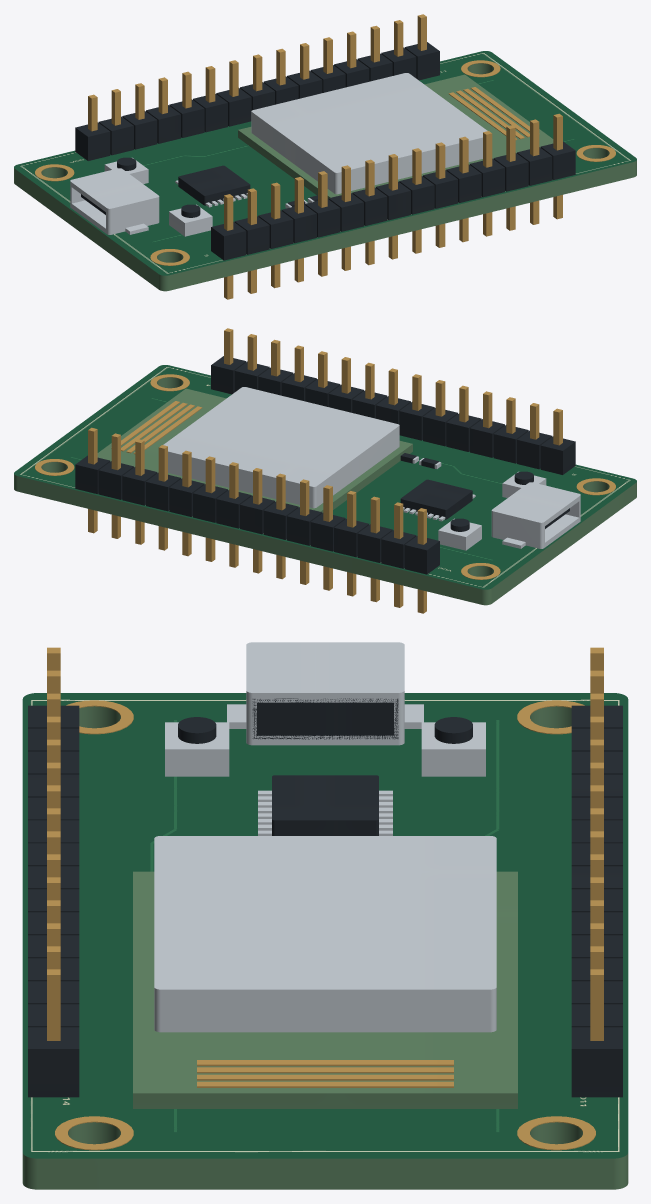
The model's file is esp32-devkit-board.glb.
3 renders of one model, top to bottom at view 1: azimuth 30°, elevation 25°; view 2: azimuth 150°, elevation 25°; view 3: azimuth 270°, elevation 25°, orthographic. The views are drawn at different scales.
Parts seen in each view (by area): view 1: PCB, RF_shield, USB_metal_shell, RF_module_substrate, USB_bridge, GPIO_insulator_15, GPIO_insulator_0, Button_base_-6, GPIO_insulator_13, GPIO_insulator_2, GPIO_insulator_6, GPIO_insulator_19 (+39 smaller); view 2: PCB, RF_shield, USB_metal_shell, RF_module_substrate, USB_bridge, GPIO_insulator_0, GPIO_insulator_15, Button_base_6, GPIO_insulator_28, GPIO_insulator_17, GPIO_insulator_21, GPIO_insulator_4 (+39 smaller); view 3: PCB, RF_shield, RF_module_substrate, USB_metal_shell, USB_bridge, USB_rear_insulating_web, GPIO_insulator_14, GPIO_insulator_29, Button_base_6, Button_base_-6, Antenna_trace_0, Antenna_trace_1 (+38 smaller).
Part boxes in pixels (x1=…): PCB: x1=14, y1=51, x2=636, y2=291; RF_shield: x1=251, y1=73, x2=487, y2=194; USB_metal_shell: x1=70, y1=168, x2=159, y2=234; RF_module_substrate: x1=238, y1=74, x2=553, y2=198; USB_bridge: x1=178, y1=165, x2=250, y2=205; GPIO_insulator_15: x1=75, y1=122, x2=110, y2=160; GPIO_insulator_0: x1=211, y1=222, x2=246, y2=260; Button_base_-6: x1=169, y1=204, x2=212, y2=236; GPIO_insulator_13: x1=517, y1=147, x2=552, y2=185; GPIO_insulator_2: x1=258, y1=210, x2=293, y2=248; GPIO_insulator_6: x1=352, y1=187, x2=387, y2=225; GPIO_insulator_19: x1=169, y1=99, x2=204, y2=137; PCB: x1=14, y1=365, x2=636, y2=605; RF_shield: x1=163, y1=387, x2=399, y2=508; USB_metal_shell: x1=491, y1=482, x2=580, y2=548; RF_module_substrate: x1=97, y1=388, x2=412, y2=512; USB_bridge: x1=400, y1=479, x2=472, y2=519; GPIO_insulator_0: x1=540, y1=436, x2=575, y2=474; GPIO_insulator_15: x1=404, y1=536, x2=439, y2=574; Button_base_6: x1=438, y1=518, x2=481, y2=550; GPIO_insulator_28: x1=98, y1=461, x2=133, y2=499; GPIO_insulator_17: x1=357, y1=524, x2=392, y2=562; GPIO_insulator_21: x1=263, y1=501, x2=298, y2=539; GPIO_insulator_4: x1=446, y1=413, x2=481, y2=451; PCB: x1=22, y1=693, x2=628, y2=1189; RF_shield: x1=154, y1=836, x2=496, y2=1032; RF_module_substrate: x1=133, y1=871, x2=517, y2=1108; USB_metal_shell: x1=246, y1=642, x2=404, y2=745; USB_bridge: x1=272, y1=775, x2=378, y2=835; USB_rear_insulating_web: x1=252, y1=698, x2=398, y2=739; GPIO_insulator_14: x1=28, y1=1027, x2=79, y2=1097; GPIO_insulator_29: x1=571, y1=1027, x2=622, y2=1097; Button_base_6: x1=421, y1=722, x2=485, y2=776; Button_base_-6: x1=165, y1=722, x2=229, y2=776; Antenna_trace_0: x1=197, y1=1060, x2=453, y2=1066; Antenna_trace_1: x1=197, y1=1067, x2=453, y2=1073.
Size of the model in its own units: 0.0515 by 0.0105 by 0.0283.
5 materials, 5 textured.
